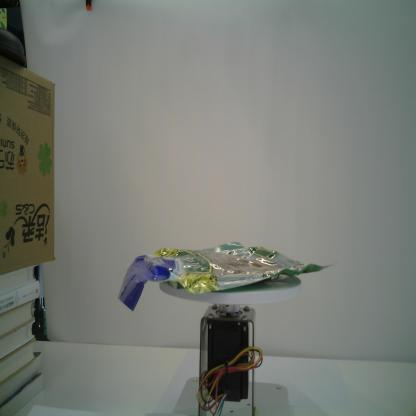Dried Food: (117, 241, 339, 312)
